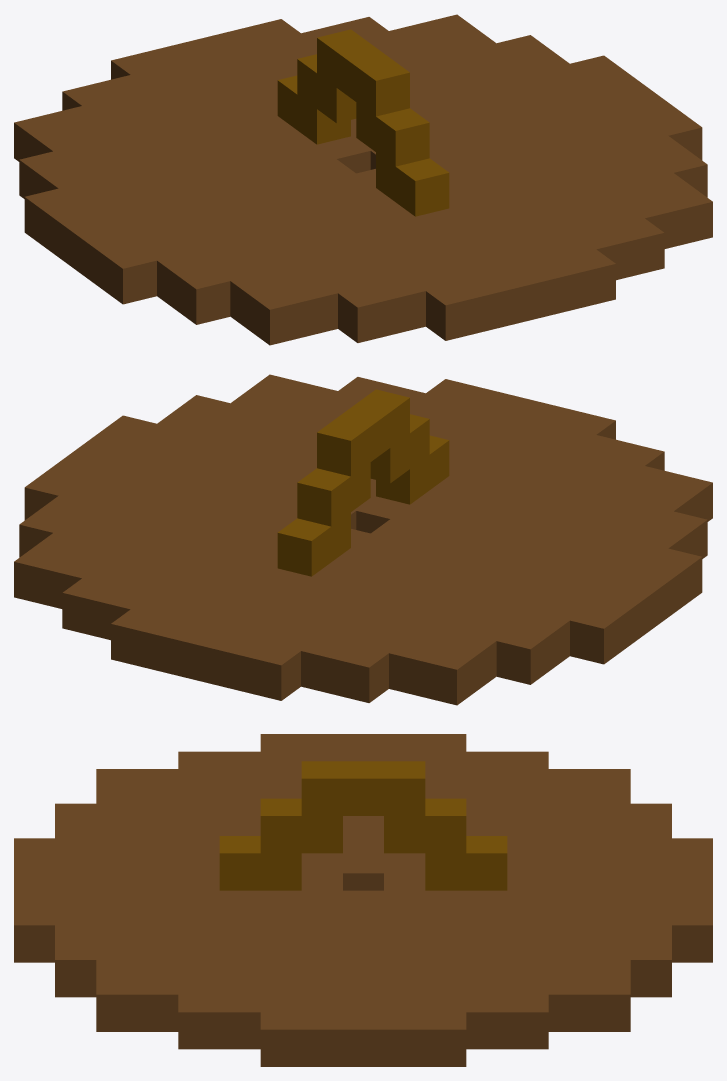
File: Basket_Lid.FBX
3 renders of one model, top to bottom at view 1: azimuth 30°, elevation 25°; view 2: azimuth 150°, elevation 25°; view 3: azimuth 270°, elevation 25°, orthographic. The views are drawn at different scales.
Visible parts, largest first — view 1: Basket_Lid; view 2: Basket_Lid; view 3: Basket_Lid.
Part boxes in pixels (x1,y1,x2,y2): Basket_Lid: (14, 14, 712, 345); Basket_Lid: (14, 374, 712, 705); Basket_Lid: (14, 734, 712, 1066).
Size of the model in its own units: 1.7 by 0.4 by 1.7.
